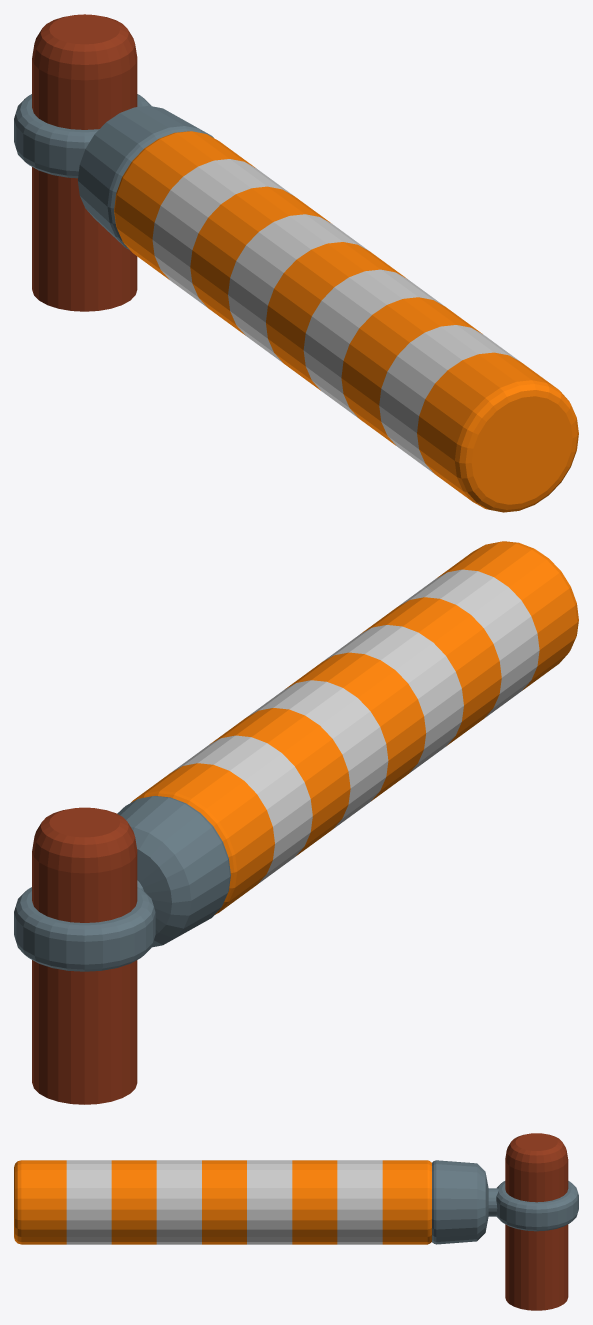
File: swiperLong_teamYellow.obj
The picture shows the model from 3 angles, top to bottom: view 1: azimuth 30°, elevation 25°; view 2: azimuth 150°, elevation 25°; view 3: azimuth 270°, elevation 25°; orthographic projection. The views are drawn at different scales.
Parts seen in each view (by area): view 1: swiperLong_teamYellow_Cylinder.056; view 2: swiperLong_teamYellow_Cylinder.056; view 3: swiperLong_teamYellow_Cylinder.056.
Boxes of the visible parts, <box> form: swiperLong_teamYellow_Cylinder.056: <box>14,14,578,512</box>; swiperLong_teamYellow_Cylinder.056: <box>14,541,578,1104</box>; swiperLong_teamYellow_Cylinder.056: <box>14,1133,578,1310</box>.
Bounding box in the file's own units: 0.8059 × 1.63 × 5.38.
